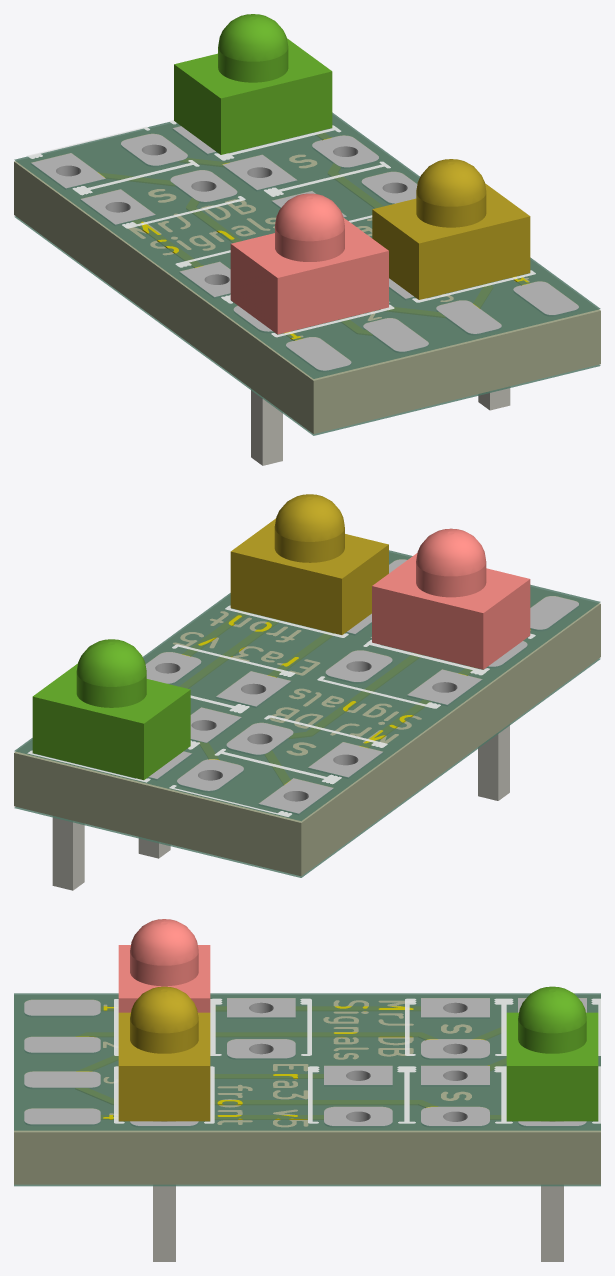
The model's file is MrJ-DB-Era3-prod-entry-Hp0.glb.
3 views of the same model, one above another, from view 1: azimuth 30°, elevation 25°; view 2: azimuth 150°, elevation 25°; view 3: azimuth 270°, elevation 25° (orthographic). The views are drawn at different scales.
Parts seen in each view (by area): view 1: =>[0:1:1:13], =>[0:1:1:11], =>[0:1:1:5], =>[0:1:1:9], =>[0:1:1:3], =>[0:1:1:7], =>[0:1:1:10], =>[0:1:1:8], =>[0:1:1:12]; view 2: =>[0:1:1:13], =>[0:1:1:11], =>[0:1:1:7], =>[0:1:1:5], =>[0:1:1:3], =>[0:1:1:9], =>[0:1:1:8], =>[0:1:1:10], =>[0:1:1:12]; view 3: =>[0:1:1:13], =>[0:1:1:11], =>[0:1:1:9], =>[0:1:1:3], =>[0:1:1:7], =>[0:1:1:5], =>[0:1:1:8], =>[0:1:1:10], =>[0:1:1:12].
Part boxes in pixels (x1,y1,x2,y2): =>[0:1:1:13]: (14, 115, 600, 433); =>[0:1:1:11]: (14, 112, 600, 378); =>[0:1:1:5]: (230, 193, 388, 465); =>[0:1:1:9]: (31, 126, 578, 371); =>[0:1:1:3]: (372, 159, 530, 410); =>[0:1:1:7]: (174, 14, 332, 154); =>[0:1:1:10]: (27, 120, 535, 337); =>[0:1:1:8]: (98, 133, 529, 340); =>[0:1:1:12]: (14, 216, 600, 435); =>[0:1:1:13]: (14, 552, 600, 876); =>[0:1:1:11]: (14, 550, 600, 821); =>[0:1:1:7]: (32, 639, 190, 890); =>[0:1:1:5]: (372, 528, 530, 800); =>[0:1:1:3]: (230, 494, 388, 634); =>[0:1:1:9]: (145, 559, 578, 814); =>[0:1:1:8]: (180, 613, 530, 784); =>[0:1:1:10]: (27, 605, 535, 816); =>[0:1:1:12]: (14, 658, 600, 877); =>[0:1:1:13]: (14, 995, 600, 1184); =>[0:1:1:11]: (14, 993, 600, 1130); =>[0:1:1:9]: (24, 998, 586, 1126); =>[0:1:1:3]: (118, 986, 210, 1261); =>[0:1:1:7]: (506, 986, 598, 1261); =>[0:1:1:5]: (118, 919, 210, 1012); =>[0:1:1:8]: (75, 1006, 505, 1119); =>[0:1:1:10]: (114, 998, 600, 1123); =>[0:1:1:12]: (14, 1184, 600, 1186).
Bounding box in the file's own units: 0.00851 × 0.0071 × 0.0154.
